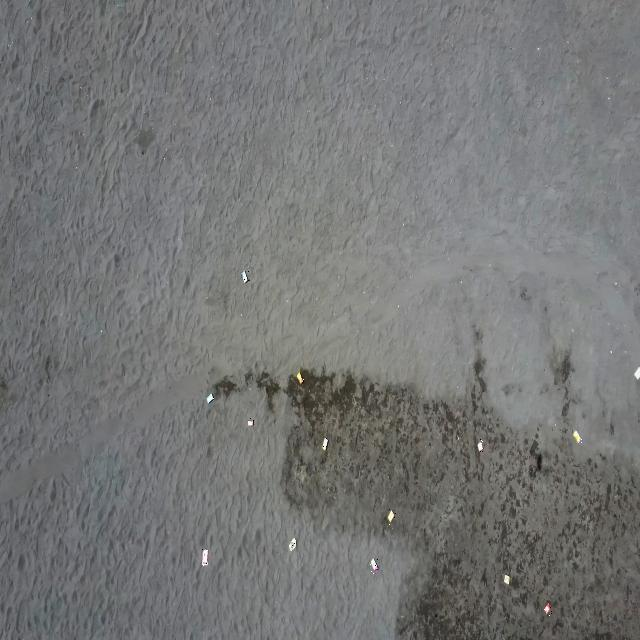Garbage: (369, 557, 379, 572), (200, 550, 207, 566), (288, 537, 296, 550), (544, 601, 551, 615), (296, 369, 303, 383), (573, 430, 580, 443), (240, 271, 247, 283), (387, 510, 393, 523), (633, 367, 639, 379), (504, 573, 510, 584), (476, 442, 483, 451), (207, 392, 212, 403), (323, 436, 327, 449), (247, 419, 252, 426)
